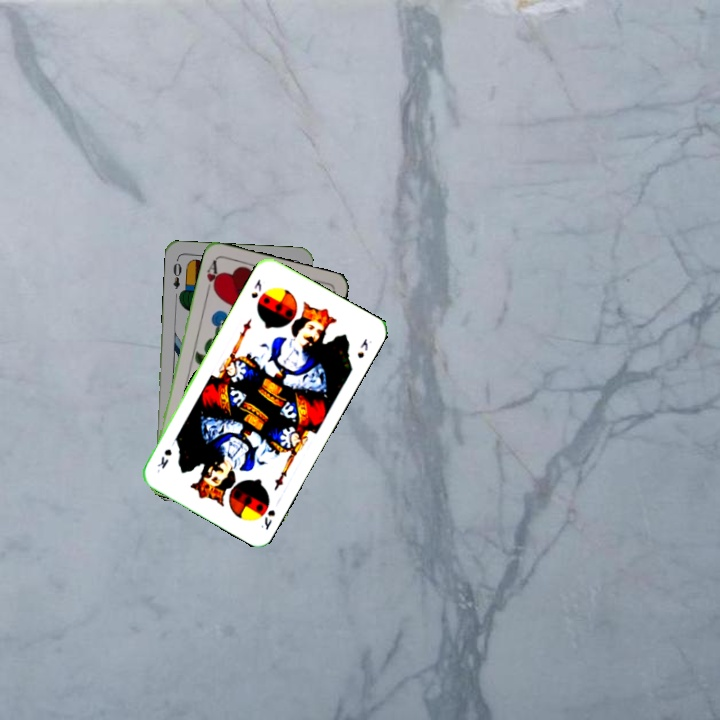EO: (169, 255, 184, 291)
HA: (202, 256, 222, 296)
SK: (257, 505, 278, 533), (247, 275, 264, 301)
